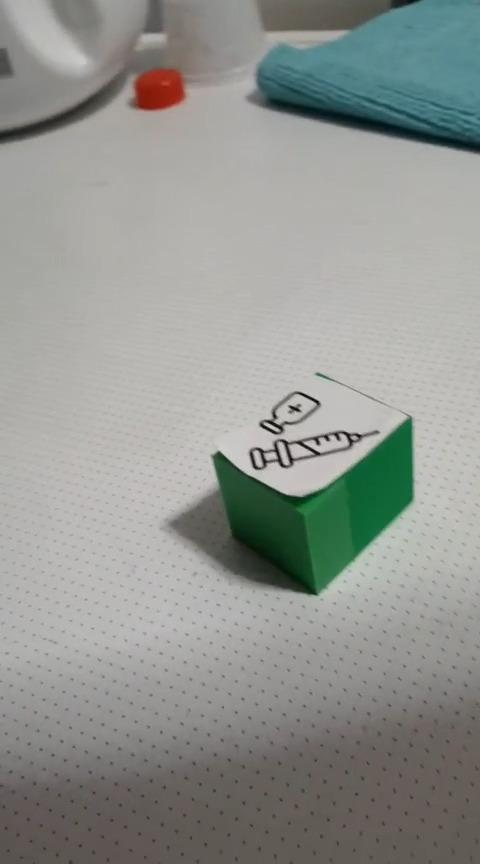antiseptic cream: (208, 369, 415, 595)
